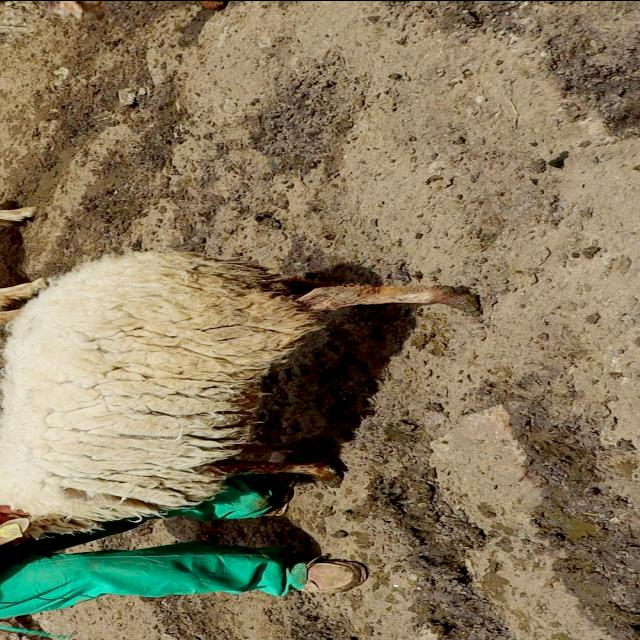Score_4: (0, 250, 478, 543)
